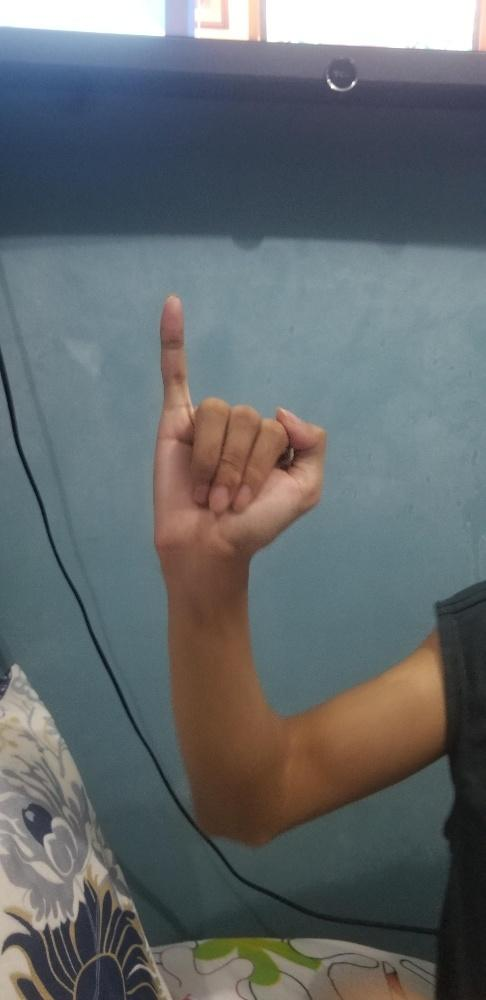i: (148, 290, 328, 561)
